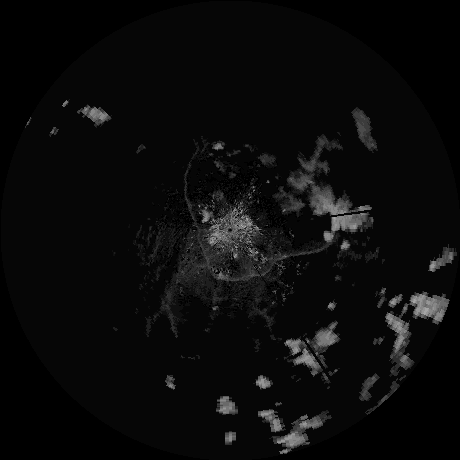frontgust: (213, 245, 331, 280), (184, 166, 211, 271)
